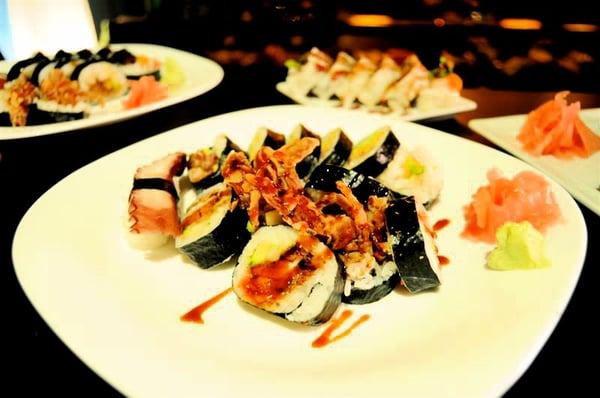curry: (1, 25, 590, 397)
pizza: (458, 170, 562, 242)
